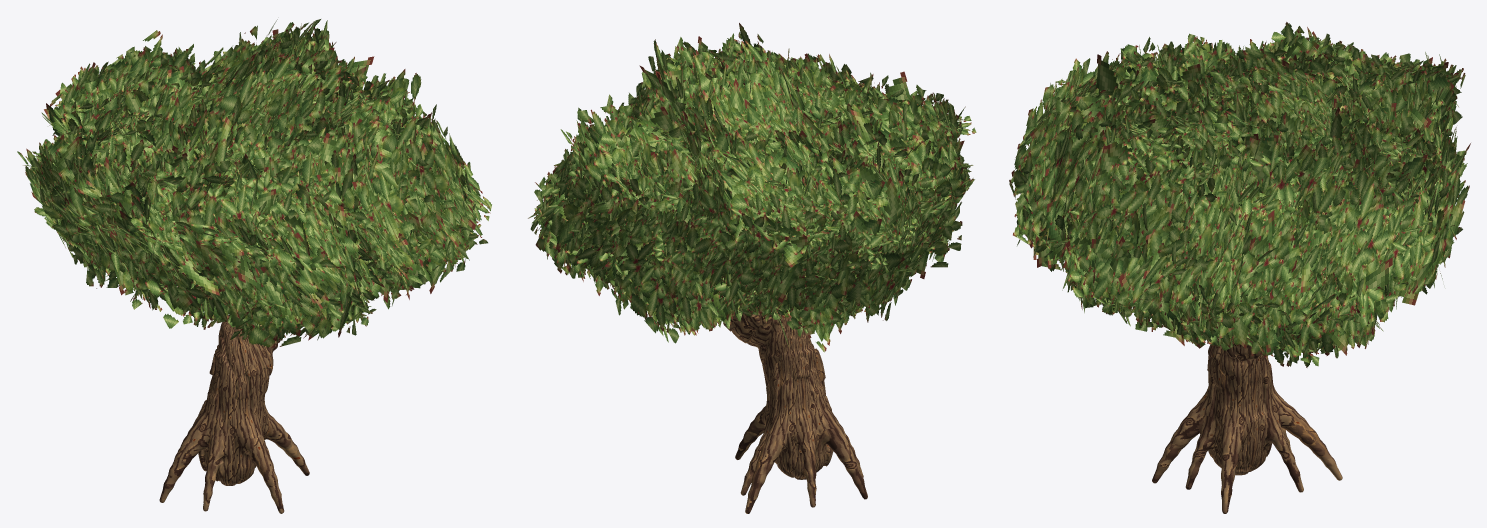
Rendered from macieira_torta_LOD_A.glb.
The picture shows the model from 3 angles, left to right: view 1: azimuth 30°, elevation 25°; view 2: azimuth 150°, elevation 25°; view 3: azimuth 270°, elevation 25°; orthographic projection. The views are drawn at different scales.
Parts seen in each view (by area): view 1: macieira_inclinada; view 2: macieira_inclinada; view 3: macieira_inclinada.
Boxes of the visible parts, x1,y1,x2,y2 form: macieira_inclinada: (17,19,491,513); macieira_inclinada: (528,23,976,513); macieira_inclinada: (1009,22,1470,513).
Bounding box in the file's own units: 6.27 × 6.57 × 5.98.
2 materials, 2 textured.
